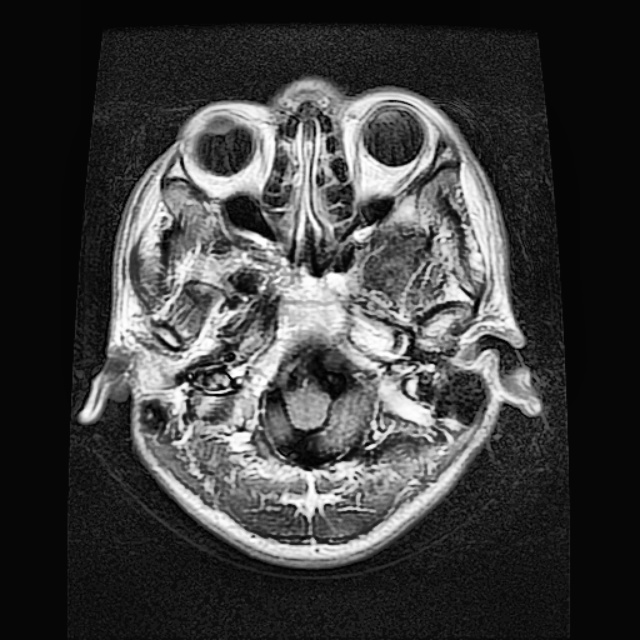Glioma: (273, 352, 369, 460)
